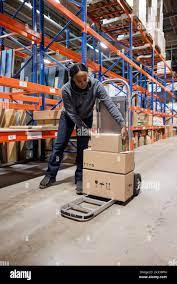Boxes: (82, 170, 136, 203), (85, 150, 137, 173), (91, 134, 121, 152)
